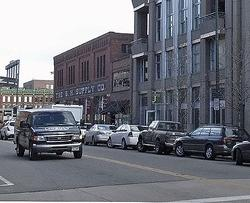car: (13, 108, 84, 159), (175, 124, 250, 161), (139, 117, 189, 156), (108, 122, 150, 150), (84, 120, 121, 147)
